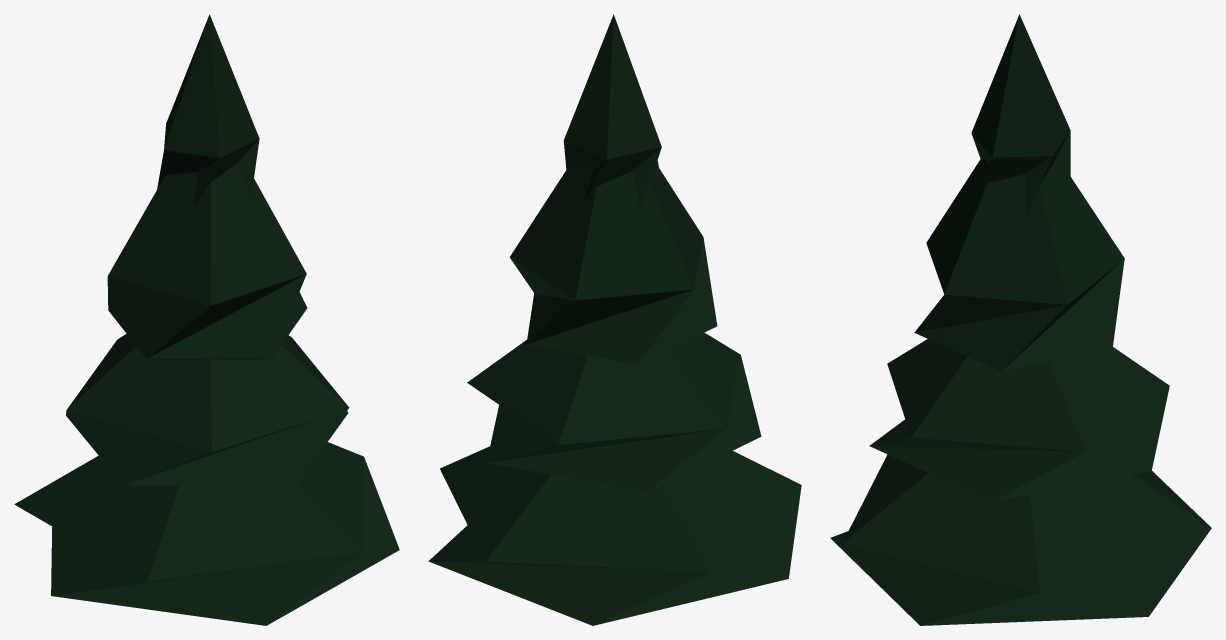
The model's file is SM_Tree01.fbx.
3 renders of one model, left to right at view 1: azimuth 30°, elevation 25°; view 2: azimuth 150°, elevation 25°; view 3: azimuth 270°, elevation 25°, orthographic. The views are drawn at different scales.
Parts seen in each view (by area): view 1: stump_trunk_0; view 2: stump_trunk_0; view 3: stump_trunk_0.
Part boxes in pixels (x1=…): stump_trunk_0: x1=14, y1=14, x2=399, y2=625; stump_trunk_0: x1=428, y1=14, x2=801, y2=625; stump_trunk_0: x1=830, y1=14, x2=1211, y2=625.
Size of the model in its own units: 112 by 181 by 110.
